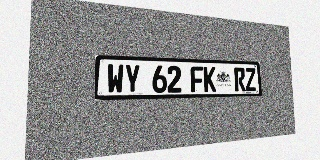2: (167, 66, 181, 93)
6: (152, 65, 167, 93)
F: (190, 66, 204, 92)
K: (203, 67, 216, 92)
R: (234, 67, 246, 91)
W: (107, 64, 124, 94)
Y: (124, 64, 140, 93)
Z: (245, 68, 256, 91)
